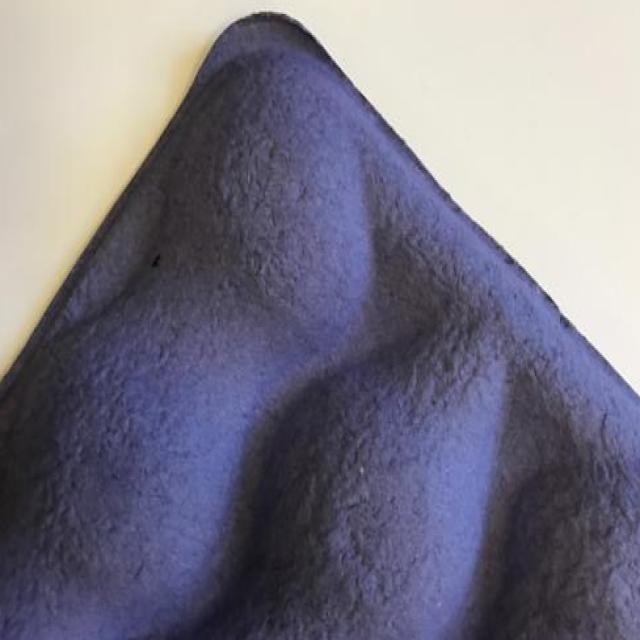kertas: (0, 10, 640, 640)
